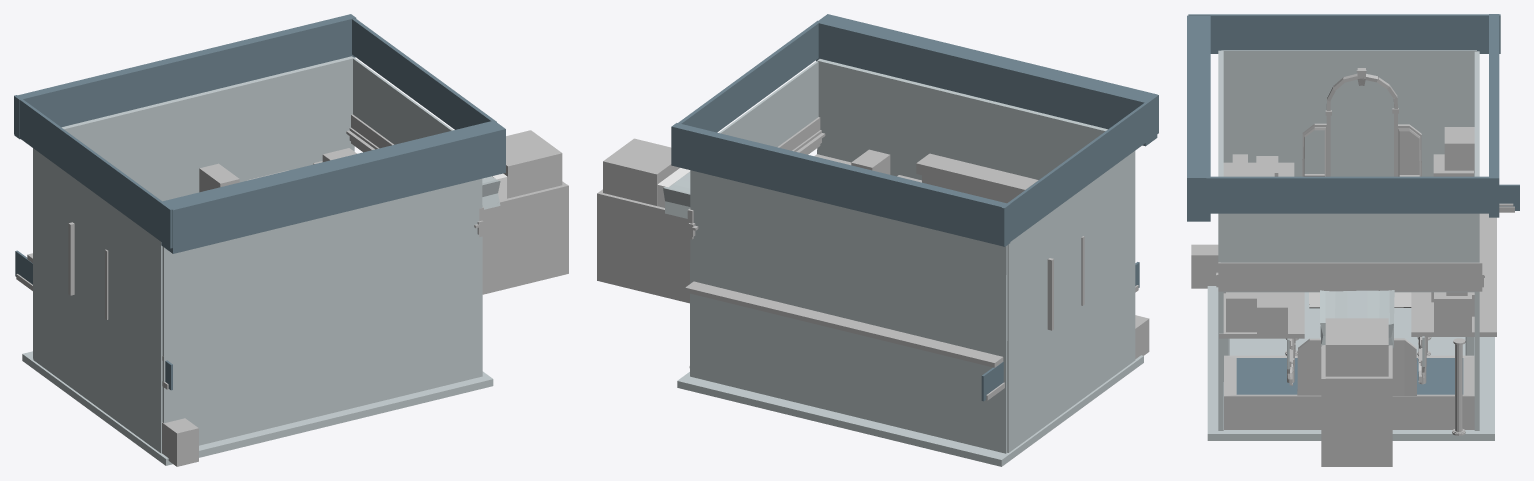
The model's file is Museum-big.obj.
The picture shows the model from 3 angles, left to right: view 1: azimuth 30°, elevation 25°; view 2: azimuth 150°, elevation 25°; view 3: azimuth 270°, elevation 25°; orthographic projection.
Visible parts, largest first — view 1: Cube.391, Cube.667, Cube.056, Cube.143, Cube.002_Cube.000, Cube.940_Cube.939, Cube.886, Cube.357, Cube.134, Cube.631, Cube.946_Cube.945, Cube.614 (+2 smaller); view 2: Cube.056, Cube.667, Cube.391, Cube.002_Cube.000, Cube.143, Cube.939_Cube.938, Cube.886, Cube.357, Cube.134, Cube.119, Cube.631, Cube.946_Cube.945 (+6 smaller); view 3: Cube.667, Cube.631, Cube.134, Cube.376, Cube.886, Cube.357, Cube.571, Cube.941_Cube.940, Cube.143, Cube.946_Cube.945, Cube.119, Cube.002_Cube.000 (+22 smaller).
Part boxes in pixels (<box>): Cube.391: <box>162,178,482,445</box>; Cube.667: <box>33,148,162,453</box>; Cube.056: <box>33,56,354,358</box>; Cube.143: <box>161,120,505,253</box>; Cube.002_Cube.000: <box>14,14,356,139</box>; Cube.940_Cube.939: <box>482,184,568,294</box>; Cube.886: <box>14,95,172,248</box>; Cube.357: <box>22,351,493,465</box>; Cube.134: <box>352,18,496,129</box>; Cube.631: <box>353,57,453,144</box>; Cube.946_Cube.945: <box>503,130,562,198</box>; Cube.614: <box>162,418,198,466</box>; Cube.056: <box>690,170,1007,453</box>; Cube.667: <box>1007,151,1135,452</box>; Cube.391: <box>817,59,1107,180</box>; Cube.002_Cube.000: <box>671,123,1010,246</box>; Cube.143: <box>816,14,1157,146</box>; Cube.939_Cube.938: <box>597,192,690,303</box>; Cube.886: <box>1001,94,1158,246</box>; Cube.357: <box>677,355,1143,466</box>; Cube.134: <box>678,20,820,132</box>; Cube.119: <box>685,281,1003,367</box>; Cube.631: <box>719,61,818,146</box>; Cube.946_Cube.945: <box>603,138,679,205</box>; Cube.667: <box>1221,50,1476,176</box>; Cube.631: <box>1220,213,1476,292</box>; Cube.134: <box>1206,176,1488,213</box>; Cube.376: <box>1224,355,1474,429</box>; Cube.886: <box>1188,14,1500,53</box>; Cube.357: <box>1207,286,1494,440</box>; Cube.571: <box>1218,261,1482,291</box>; Cube.941_Cube.940: <box>1325,376,1388,466</box>; Cube.143: <box>1187,15,1210,221</box>; Cube.946_Cube.945: <box>1325,318,1388,376</box>; Cube.119: <box>1411,213,1496,336</box>; Cube.002_Cube.000: <box>1489,14,1499,217</box>.
Size of the model in its own units: 51.09 by 27.74 by 31.65.
